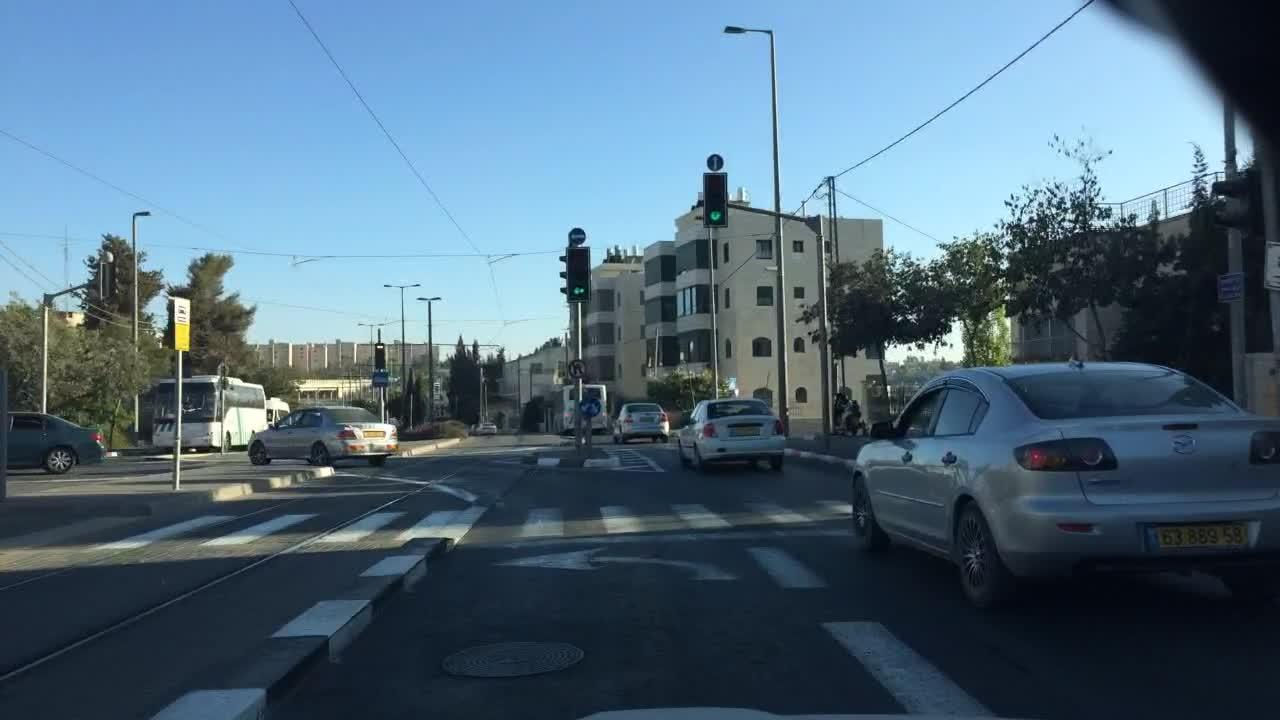Mazda: (1158, 427, 1205, 469)
